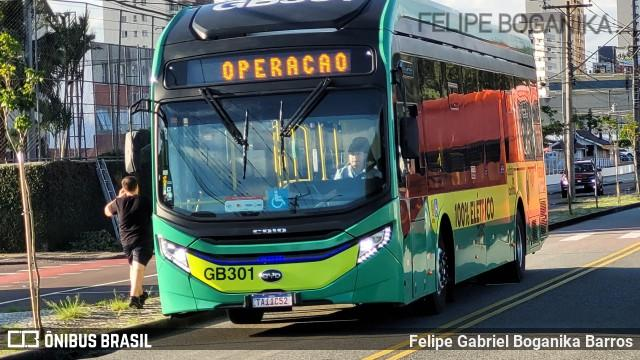OPERACAO: (215, 50, 350, 83)
